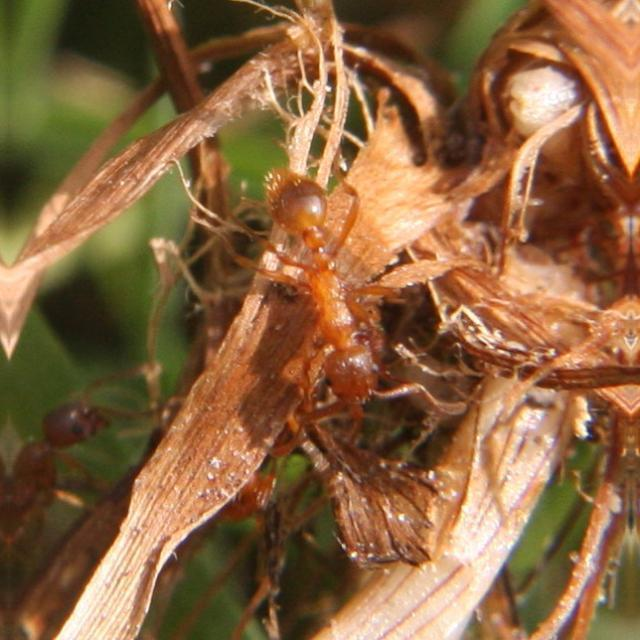Myrmica: (273, 158, 423, 428), (8, 377, 118, 553)
